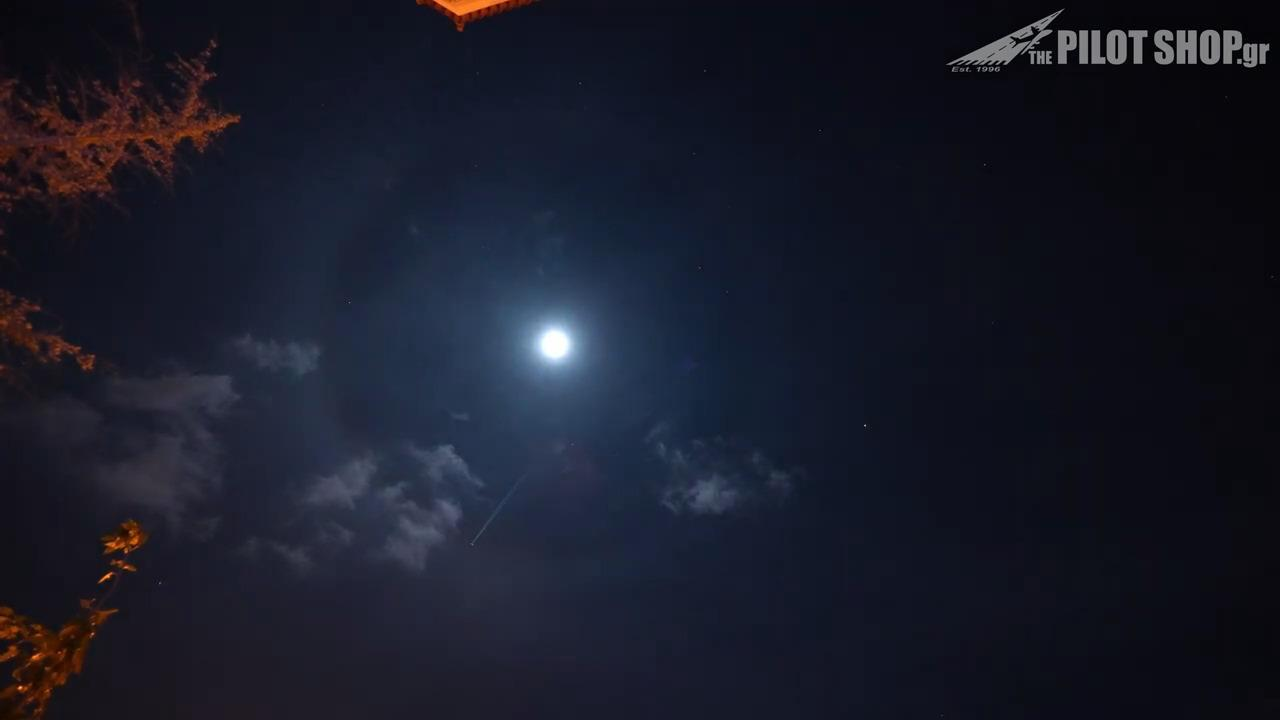Plane: (470, 491, 515, 543)
